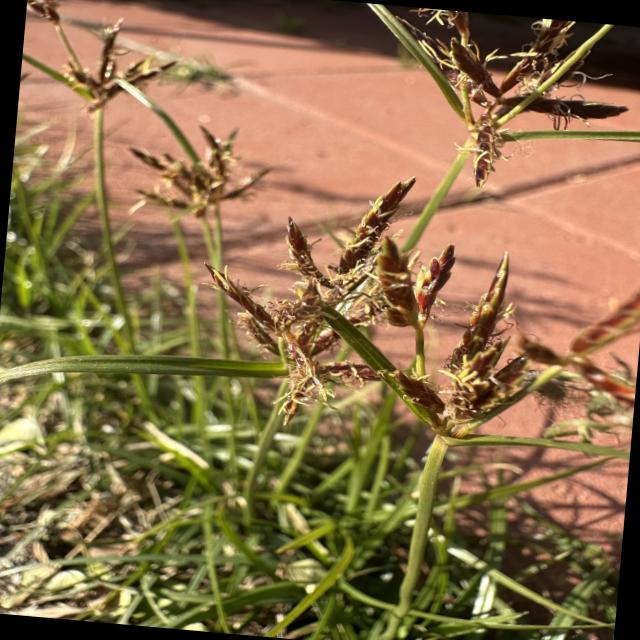cyperus: (186, 0, 640, 449), (180, 153, 638, 456), (341, 2, 640, 190), (17, 0, 167, 123), (148, 123, 268, 234)
